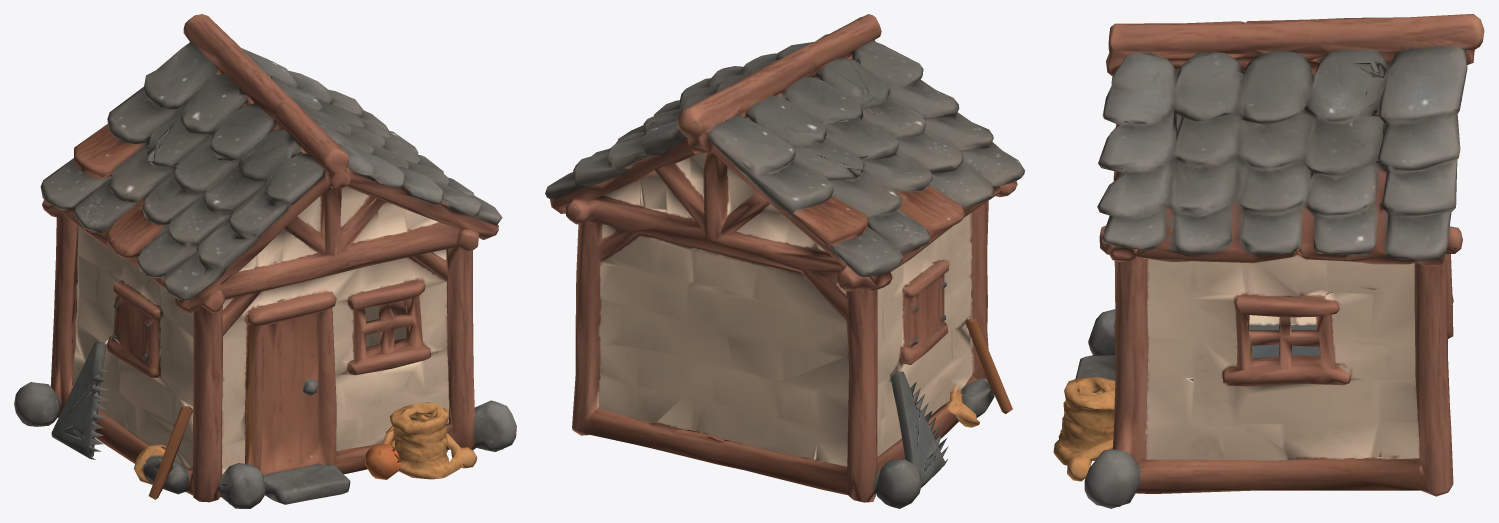
Rendered from sieve-cutters-hut-b.glb.
The picture shows the model from 3 angles, left to right: view 1: azimuth 30°, elevation 25°; view 2: azimuth 150°, elevation 25°; view 3: azimuth 270°, elevation 25°; orthographic projection. The views are drawn at different scales.
Size of the model in its own units: 2.8 by 2.63 by 2.51.
1 material, 1 textured.
